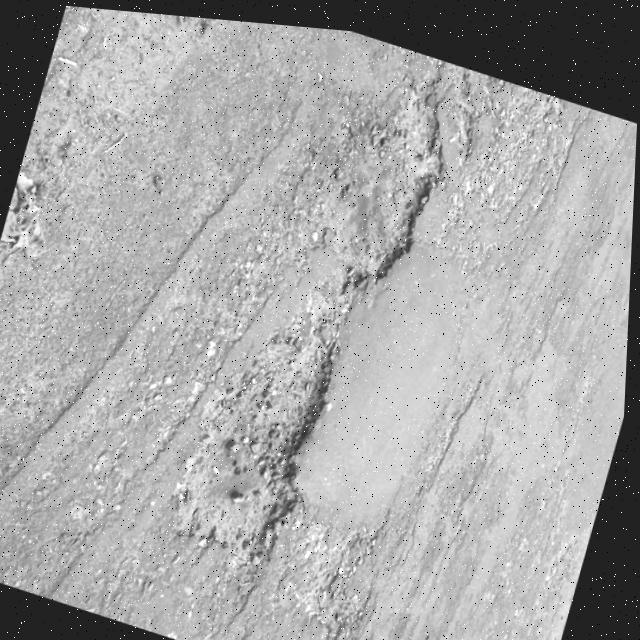pothole: (160, 284, 368, 588), (291, 33, 483, 310)
